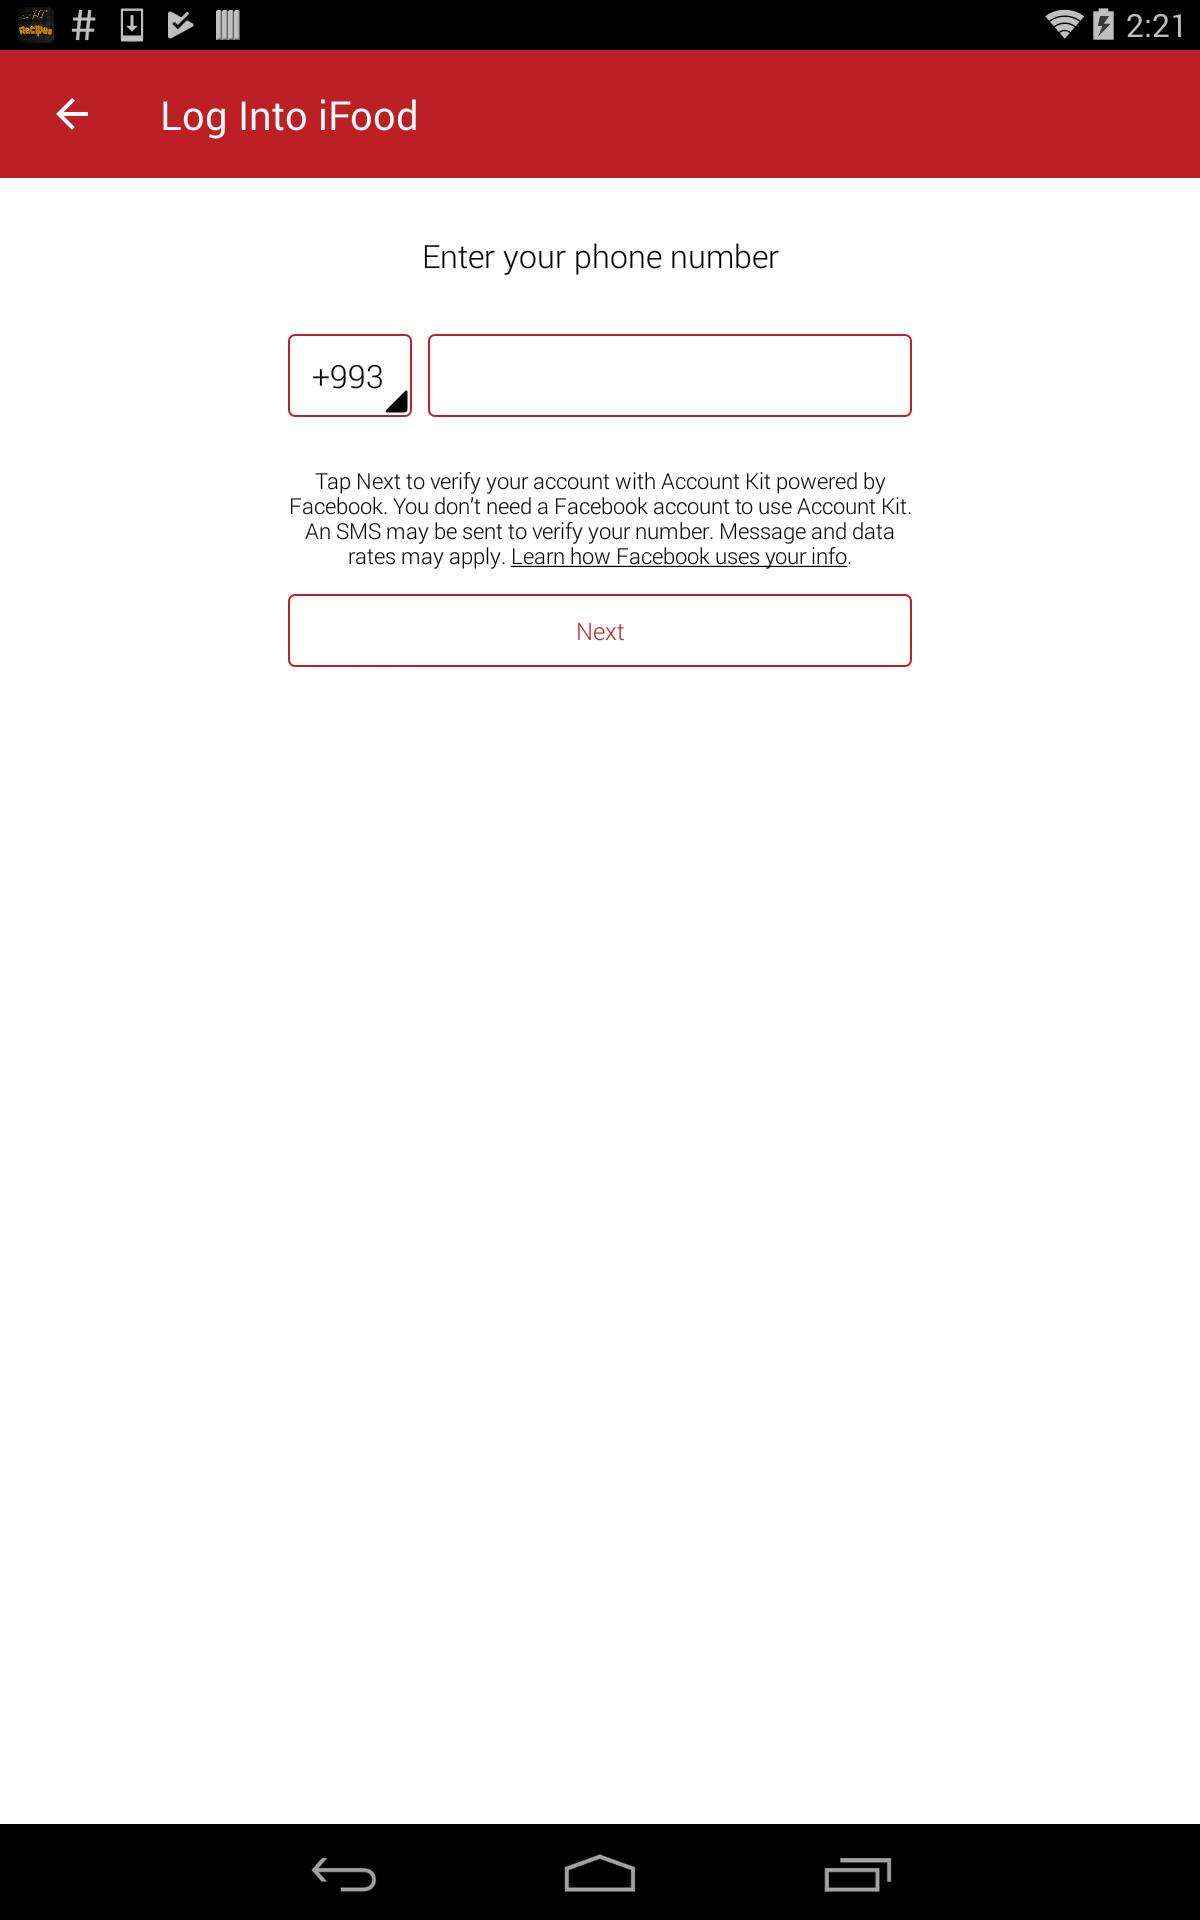android.view.View: (0, 50, 1200, 178)
android.widget.Button: (288, 594, 912, 668)
android.widget.EditText: (429, 335, 912, 417)
android.widget.FrameLayout: (0, 0, 1200, 1825), (0, 50, 1200, 1825), (0, 178, 1200, 335), (0, 464, 1200, 594), (0, 50, 1200, 178), (0, 335, 1200, 417), (0, 594, 1200, 668), (0, 417, 1200, 464), (288, 335, 412, 417)
android.widget.ImageButton: (17, 50, 129, 178)
android.widget.LinearLayout: (0, 0, 1200, 1825), (0, 50, 1200, 1825), (0, 178, 1200, 1258), (0, 50, 1200, 178), (288, 178, 912, 335), (288, 464, 912, 594), (288, 335, 912, 417), (288, 594, 912, 668), (288, 335, 408, 413)
android.widget.ScrollView: (0, 178, 1200, 1825)
android.widget.Spinner: (288, 335, 412, 417)
android.widget.TextView: (288, 178, 912, 335), (288, 464, 912, 594), (160, 87, 420, 141), (288, 335, 408, 413)
